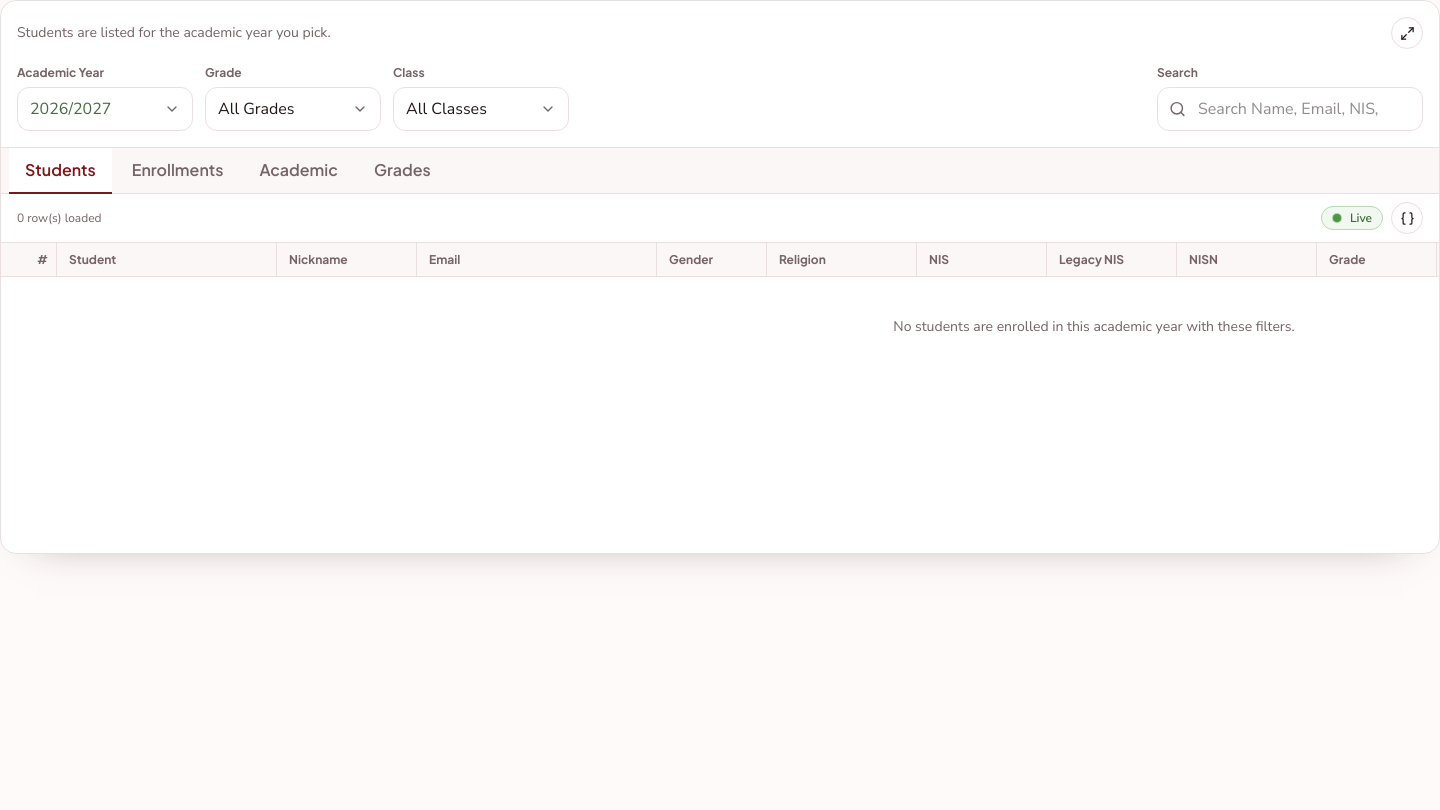
Test case: WorkspaceTable › opens on the active year, lists students enrolled that year and offers only that year's classes
Click the button "All Classes" at {"x": 481, "y": 109}, box [393,87,569,131]
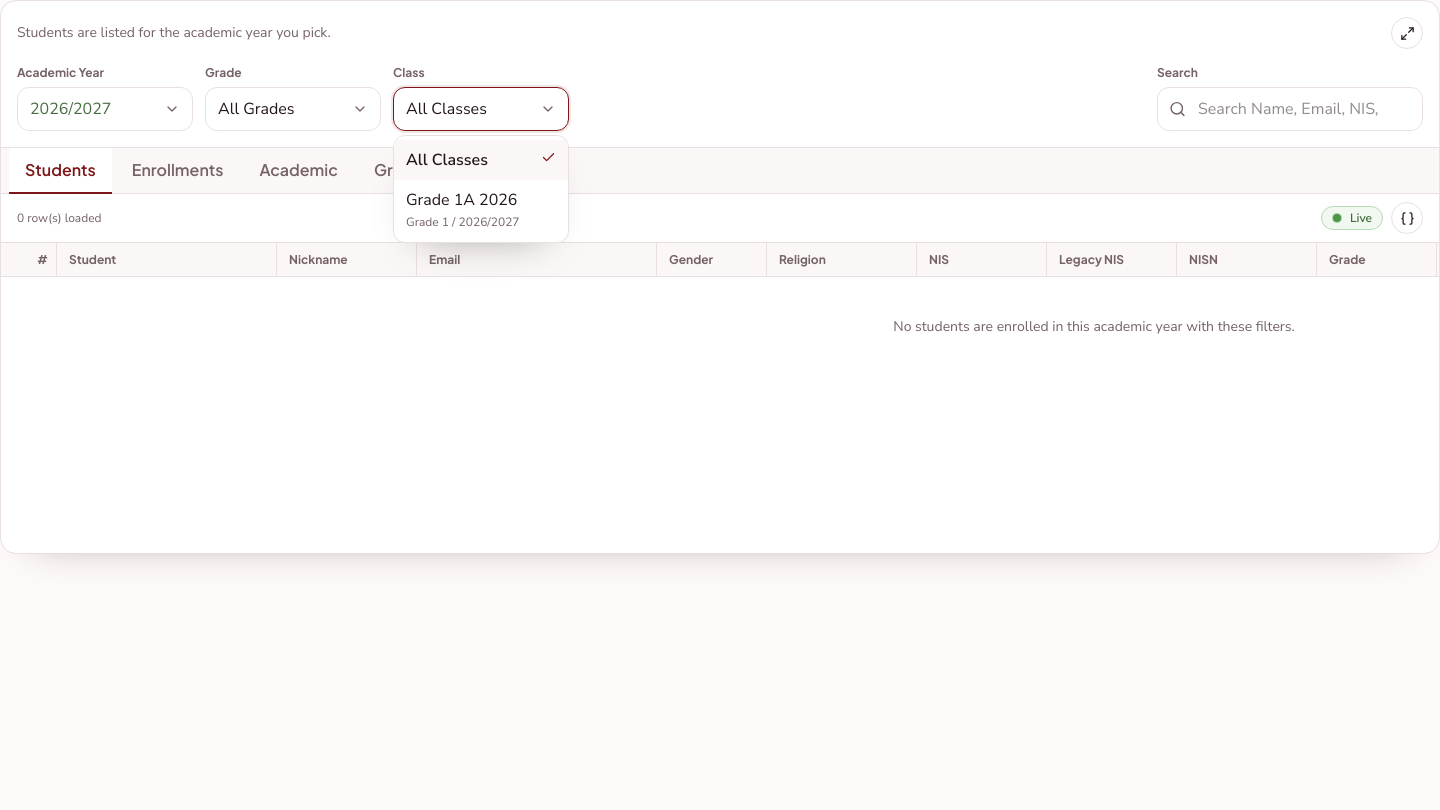
Expected: the option "Grade 1A 2026 Grade 1 / 2026/2027" is shown, [394,180,568,238]
